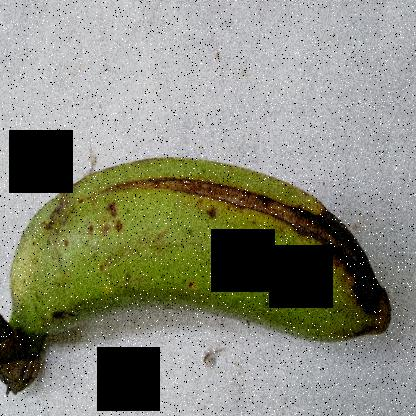rotten: (246, 143, 415, 330)
unripe: (5, 140, 288, 404)
